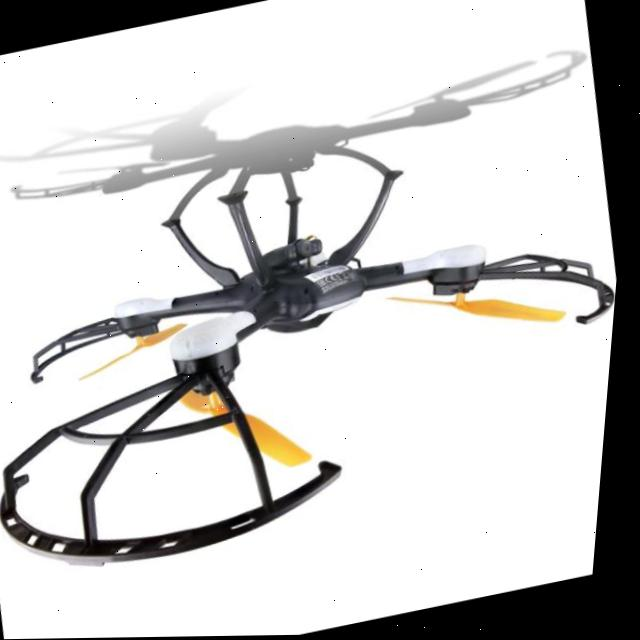drones: (0, 76, 635, 607)
